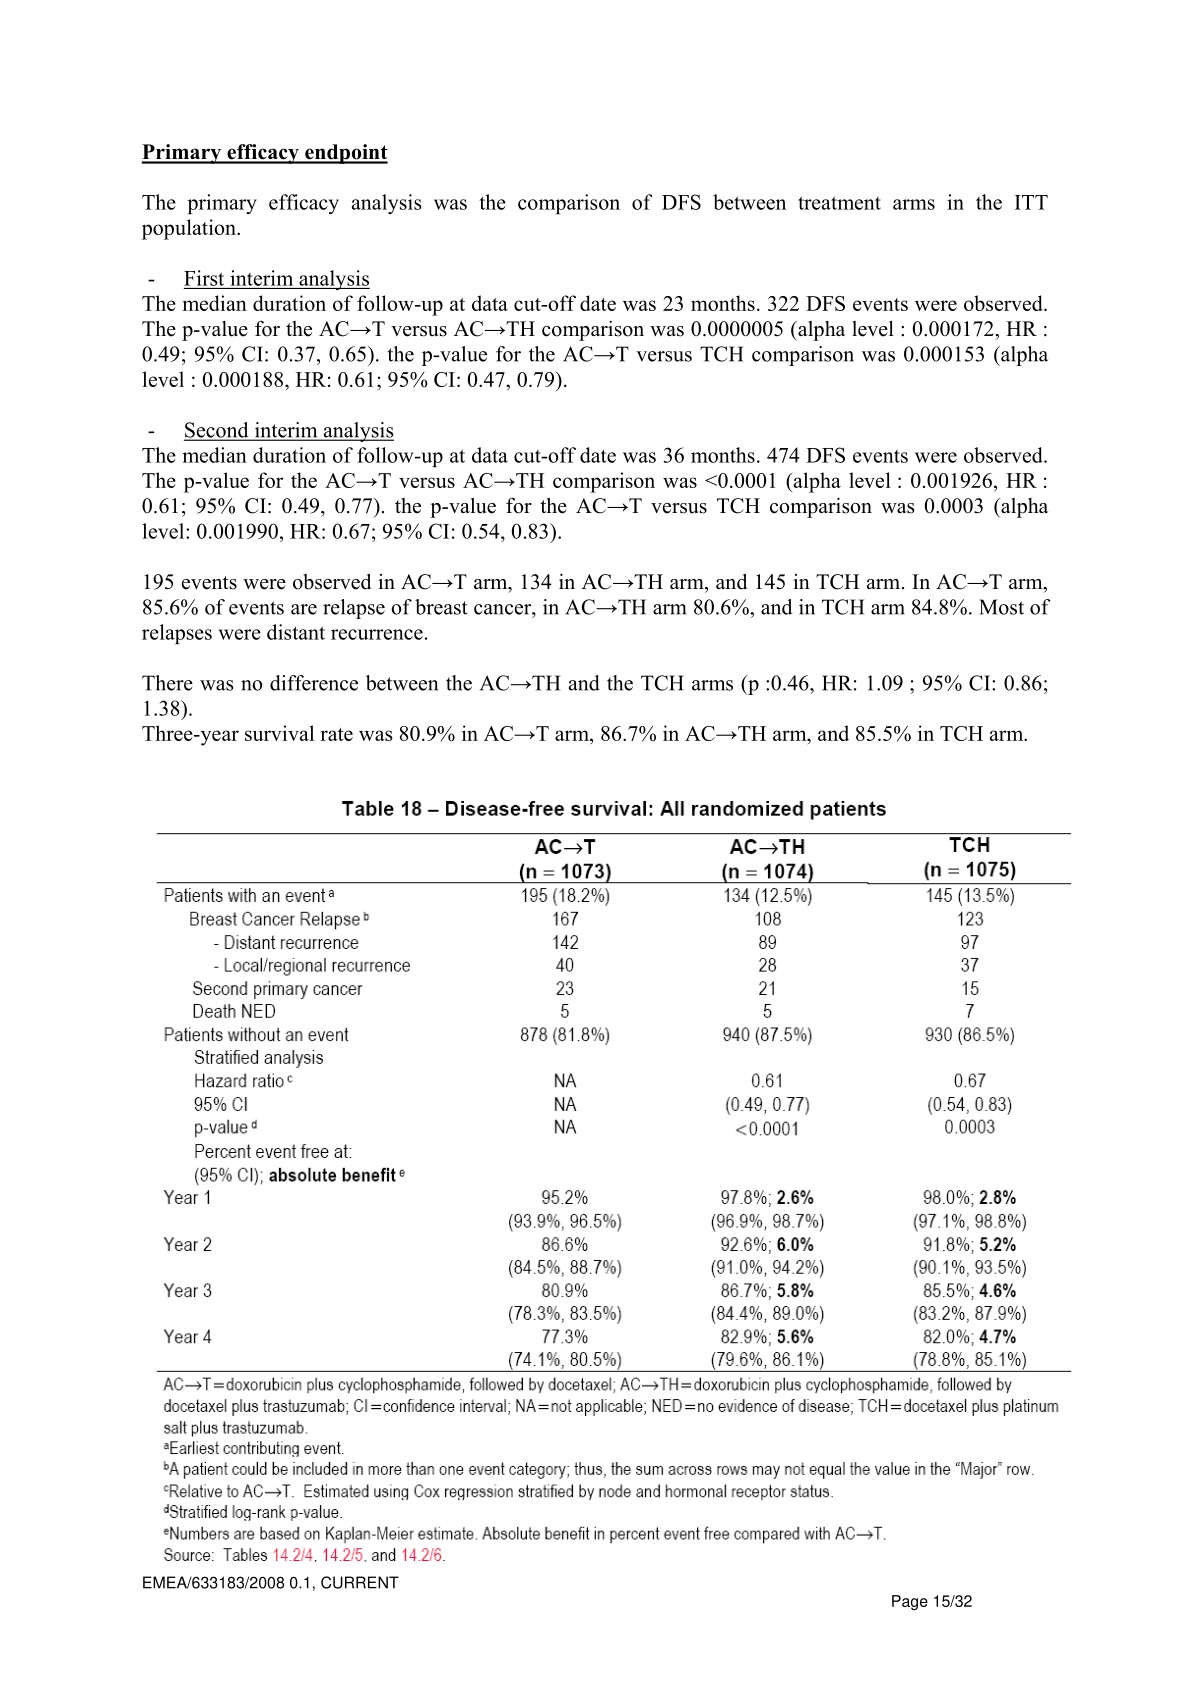partial_lined: (155, 830, 1074, 1375)
